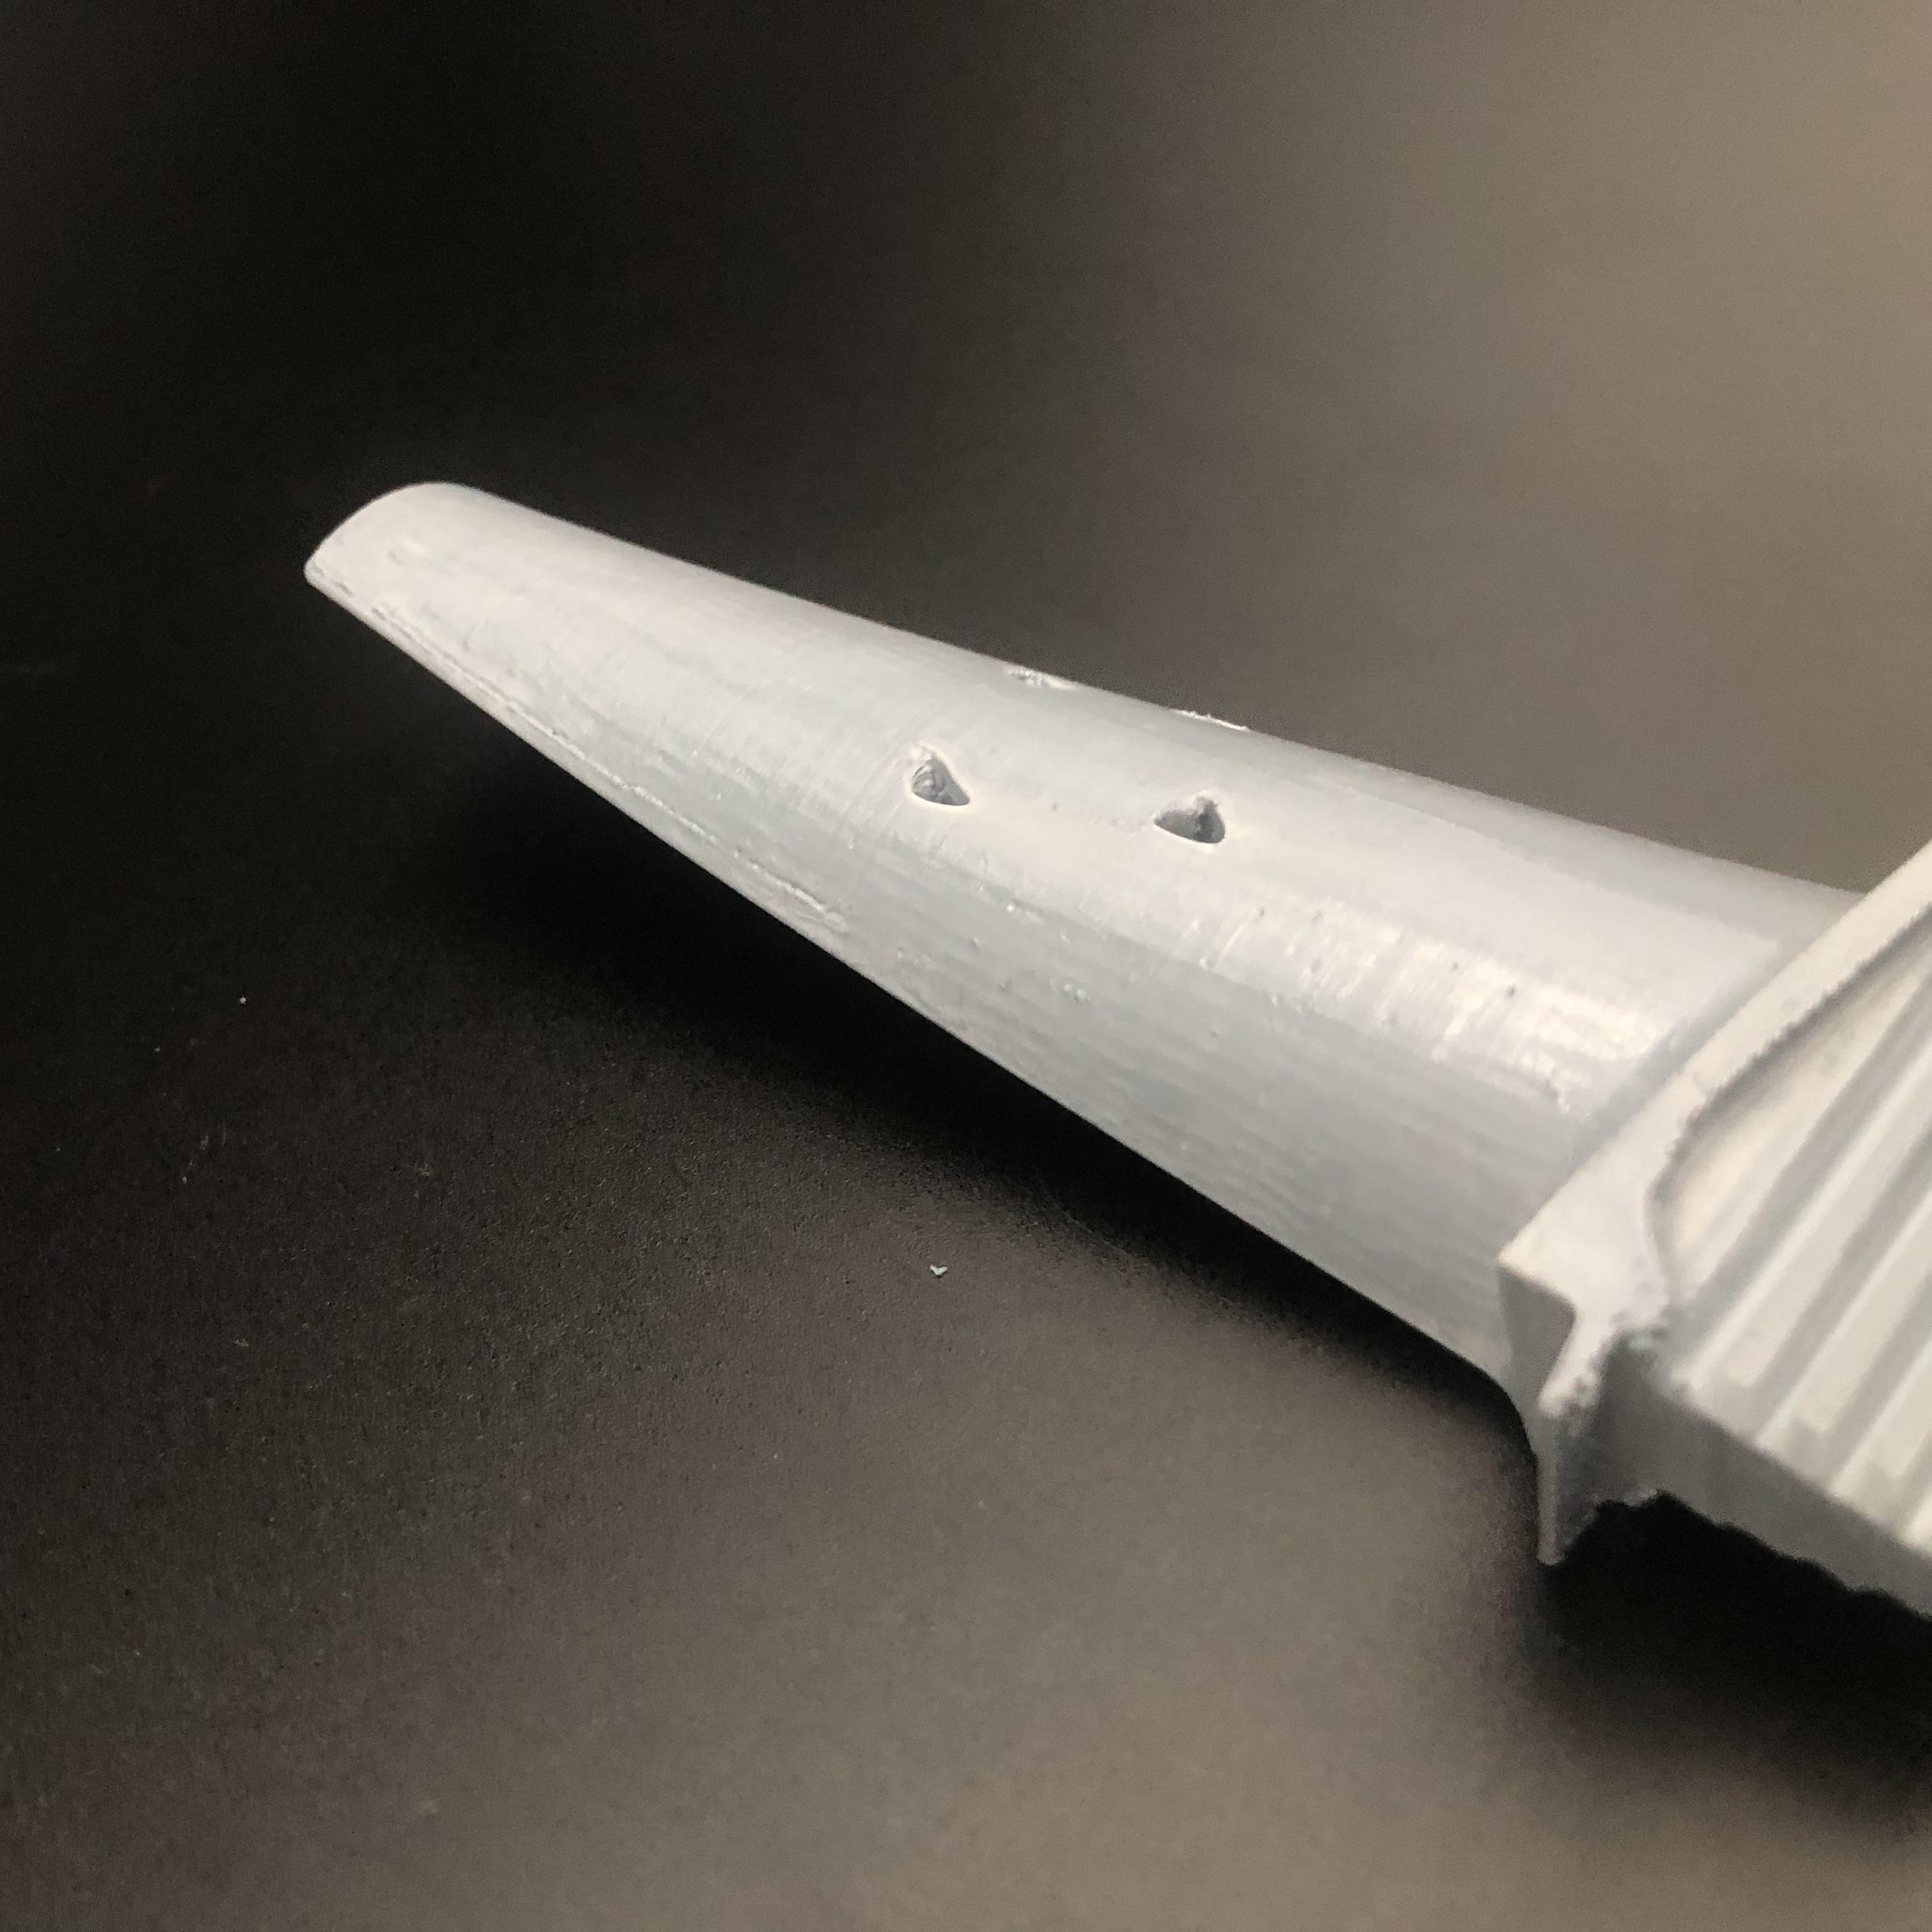breakdown: (909, 662, 1247, 846)
